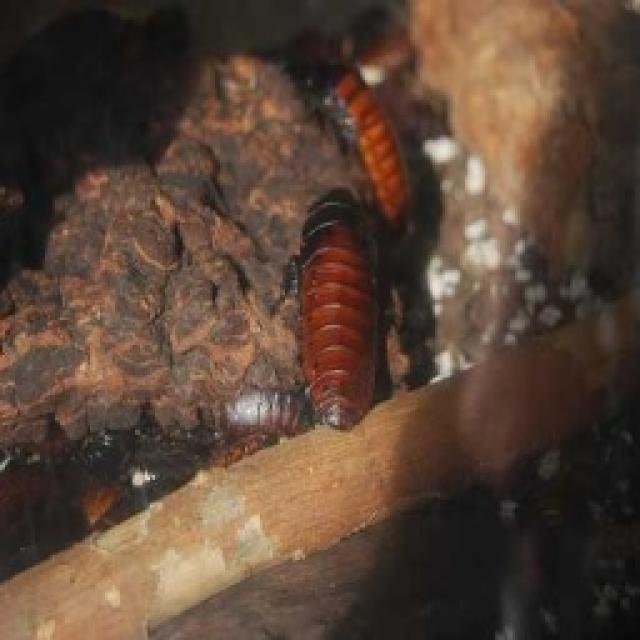cockroach: (266, 170, 392, 481), (322, 35, 414, 275)
